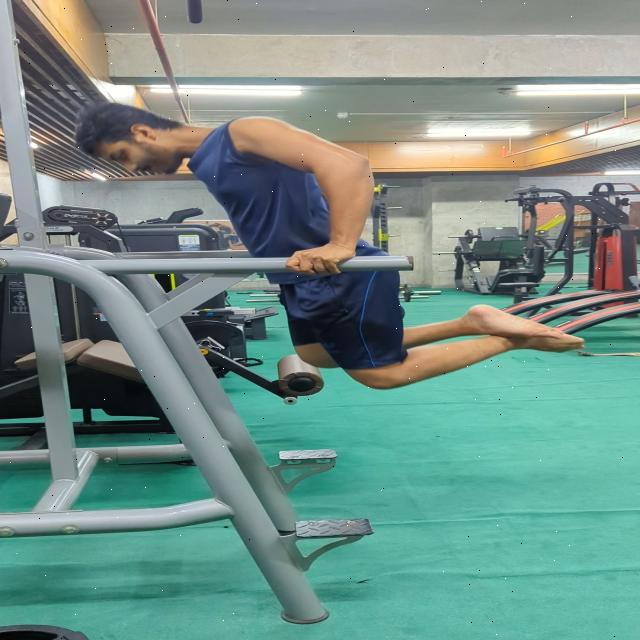Normal_Dips: (71, 86, 590, 396)
